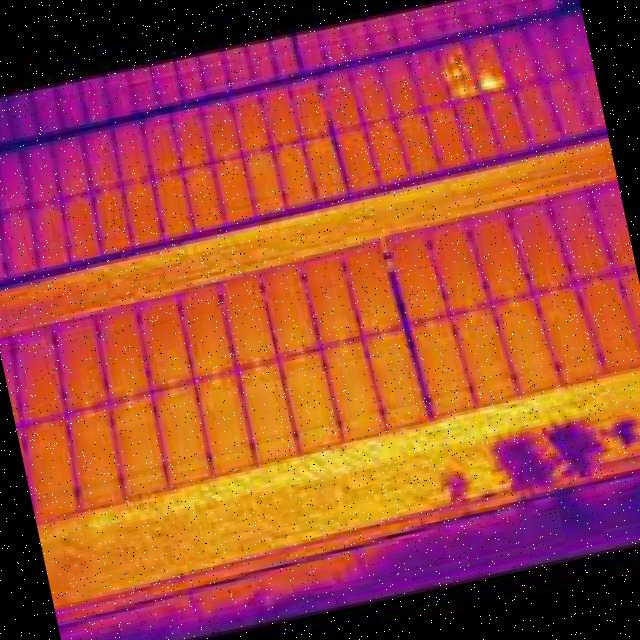Hotspot: (478, 69, 506, 90), (451, 82, 478, 100), (446, 52, 458, 66), (450, 67, 464, 79), (442, 70, 452, 78)
